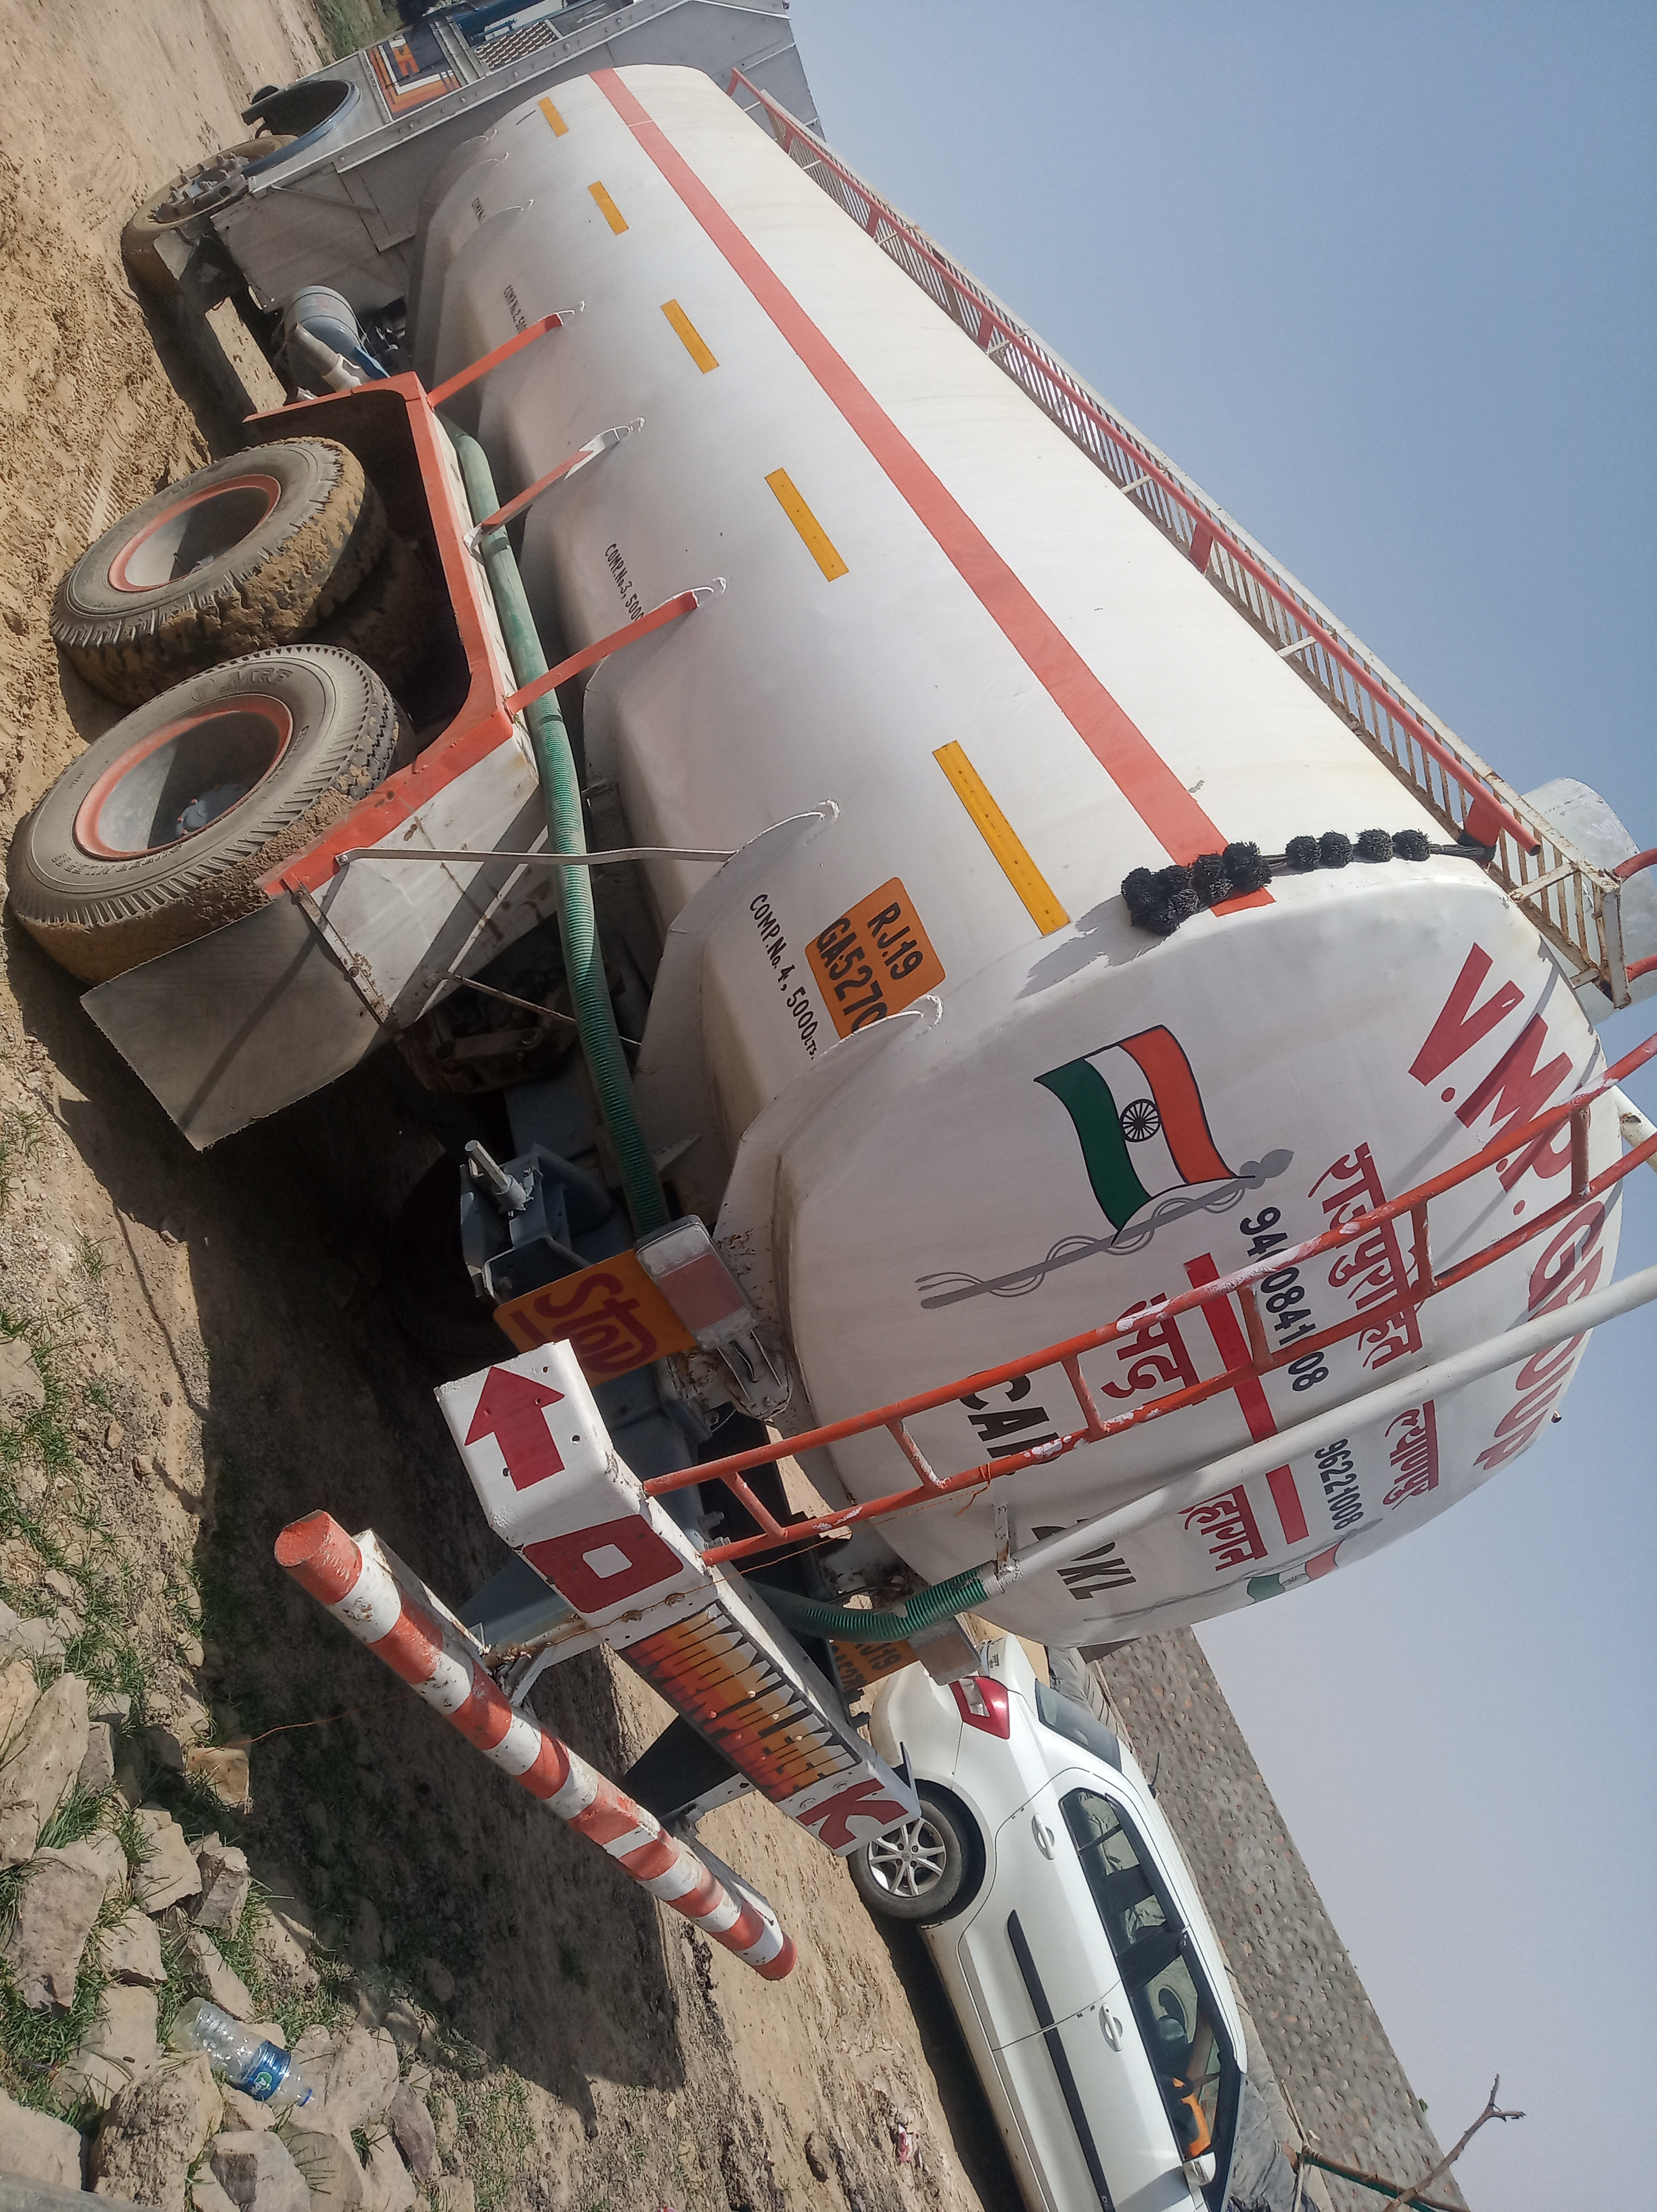truck: (0, 0, 1657, 1984)
